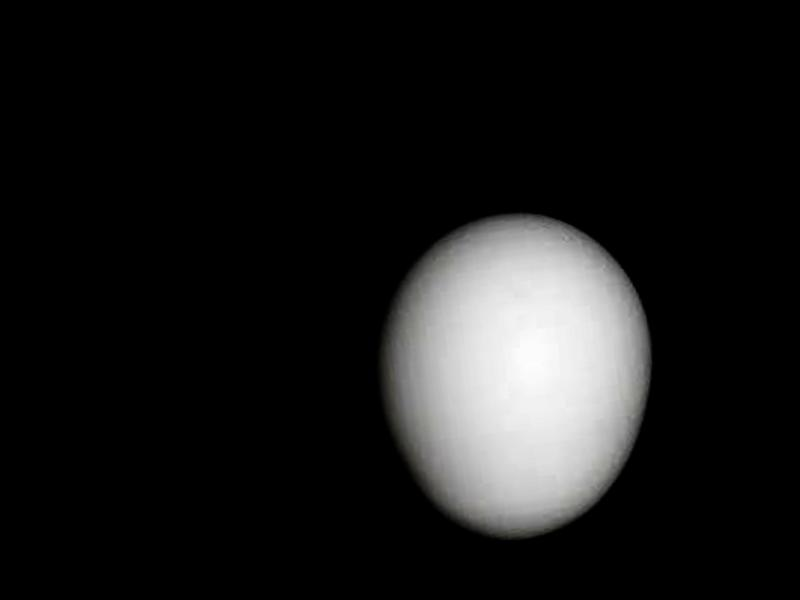Eggs: (364, 195, 672, 550)
